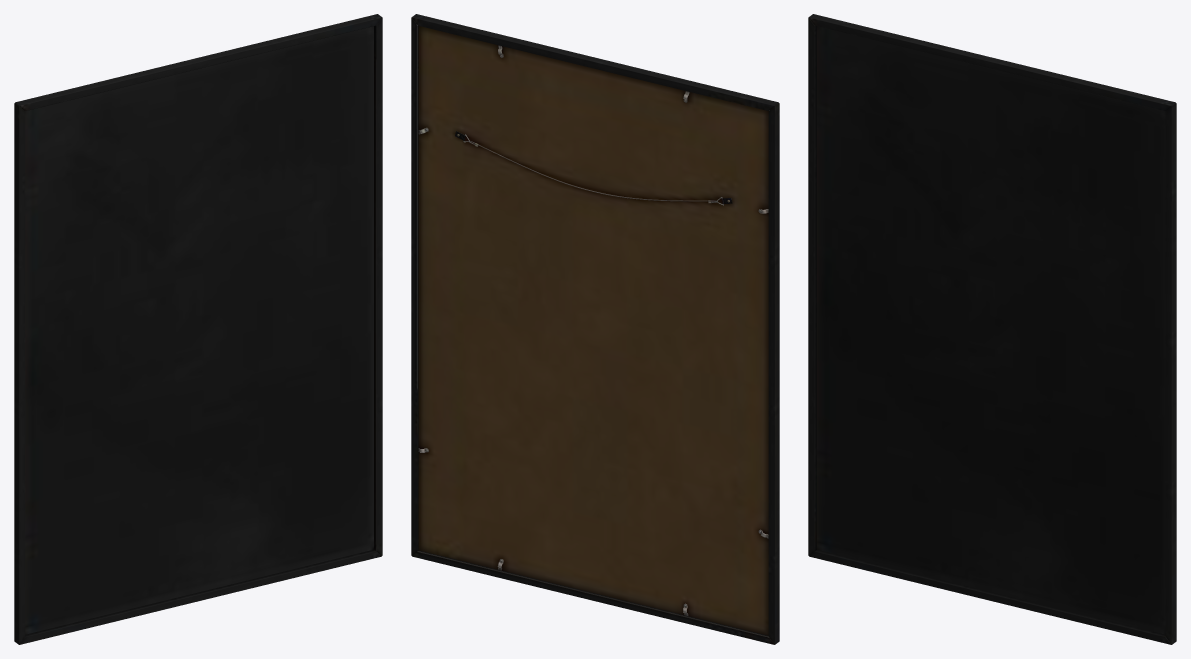
The model's file is hanging_picture_frame_01.glb.
3 renders of one model, left to right at view 1: azimuth 30°, elevation 25°; view 2: azimuth 150°, elevation 25°; view 3: azimuth 330°, elevation 25°, orthographic.
Parts seen in each view (by area): view 1: hanging_picture_frame_01; view 2: hanging_picture_frame_01; view 3: hanging_picture_frame_01.
Boxes of the visible parts, x1,y1,x2,y2 form: hanging_picture_frame_01: (14, 14, 382, 644); hanging_picture_frame_01: (411, 14, 779, 644); hanging_picture_frame_01: (808, 14, 1176, 644).
Bounding box in the file's own units: 0.594 × 0.841 × 0.0157.
3 materials, 3 textured.
